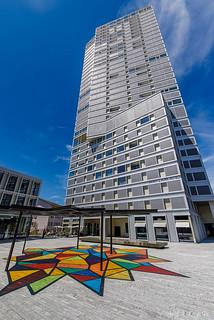building: (54, 2, 212, 244)
